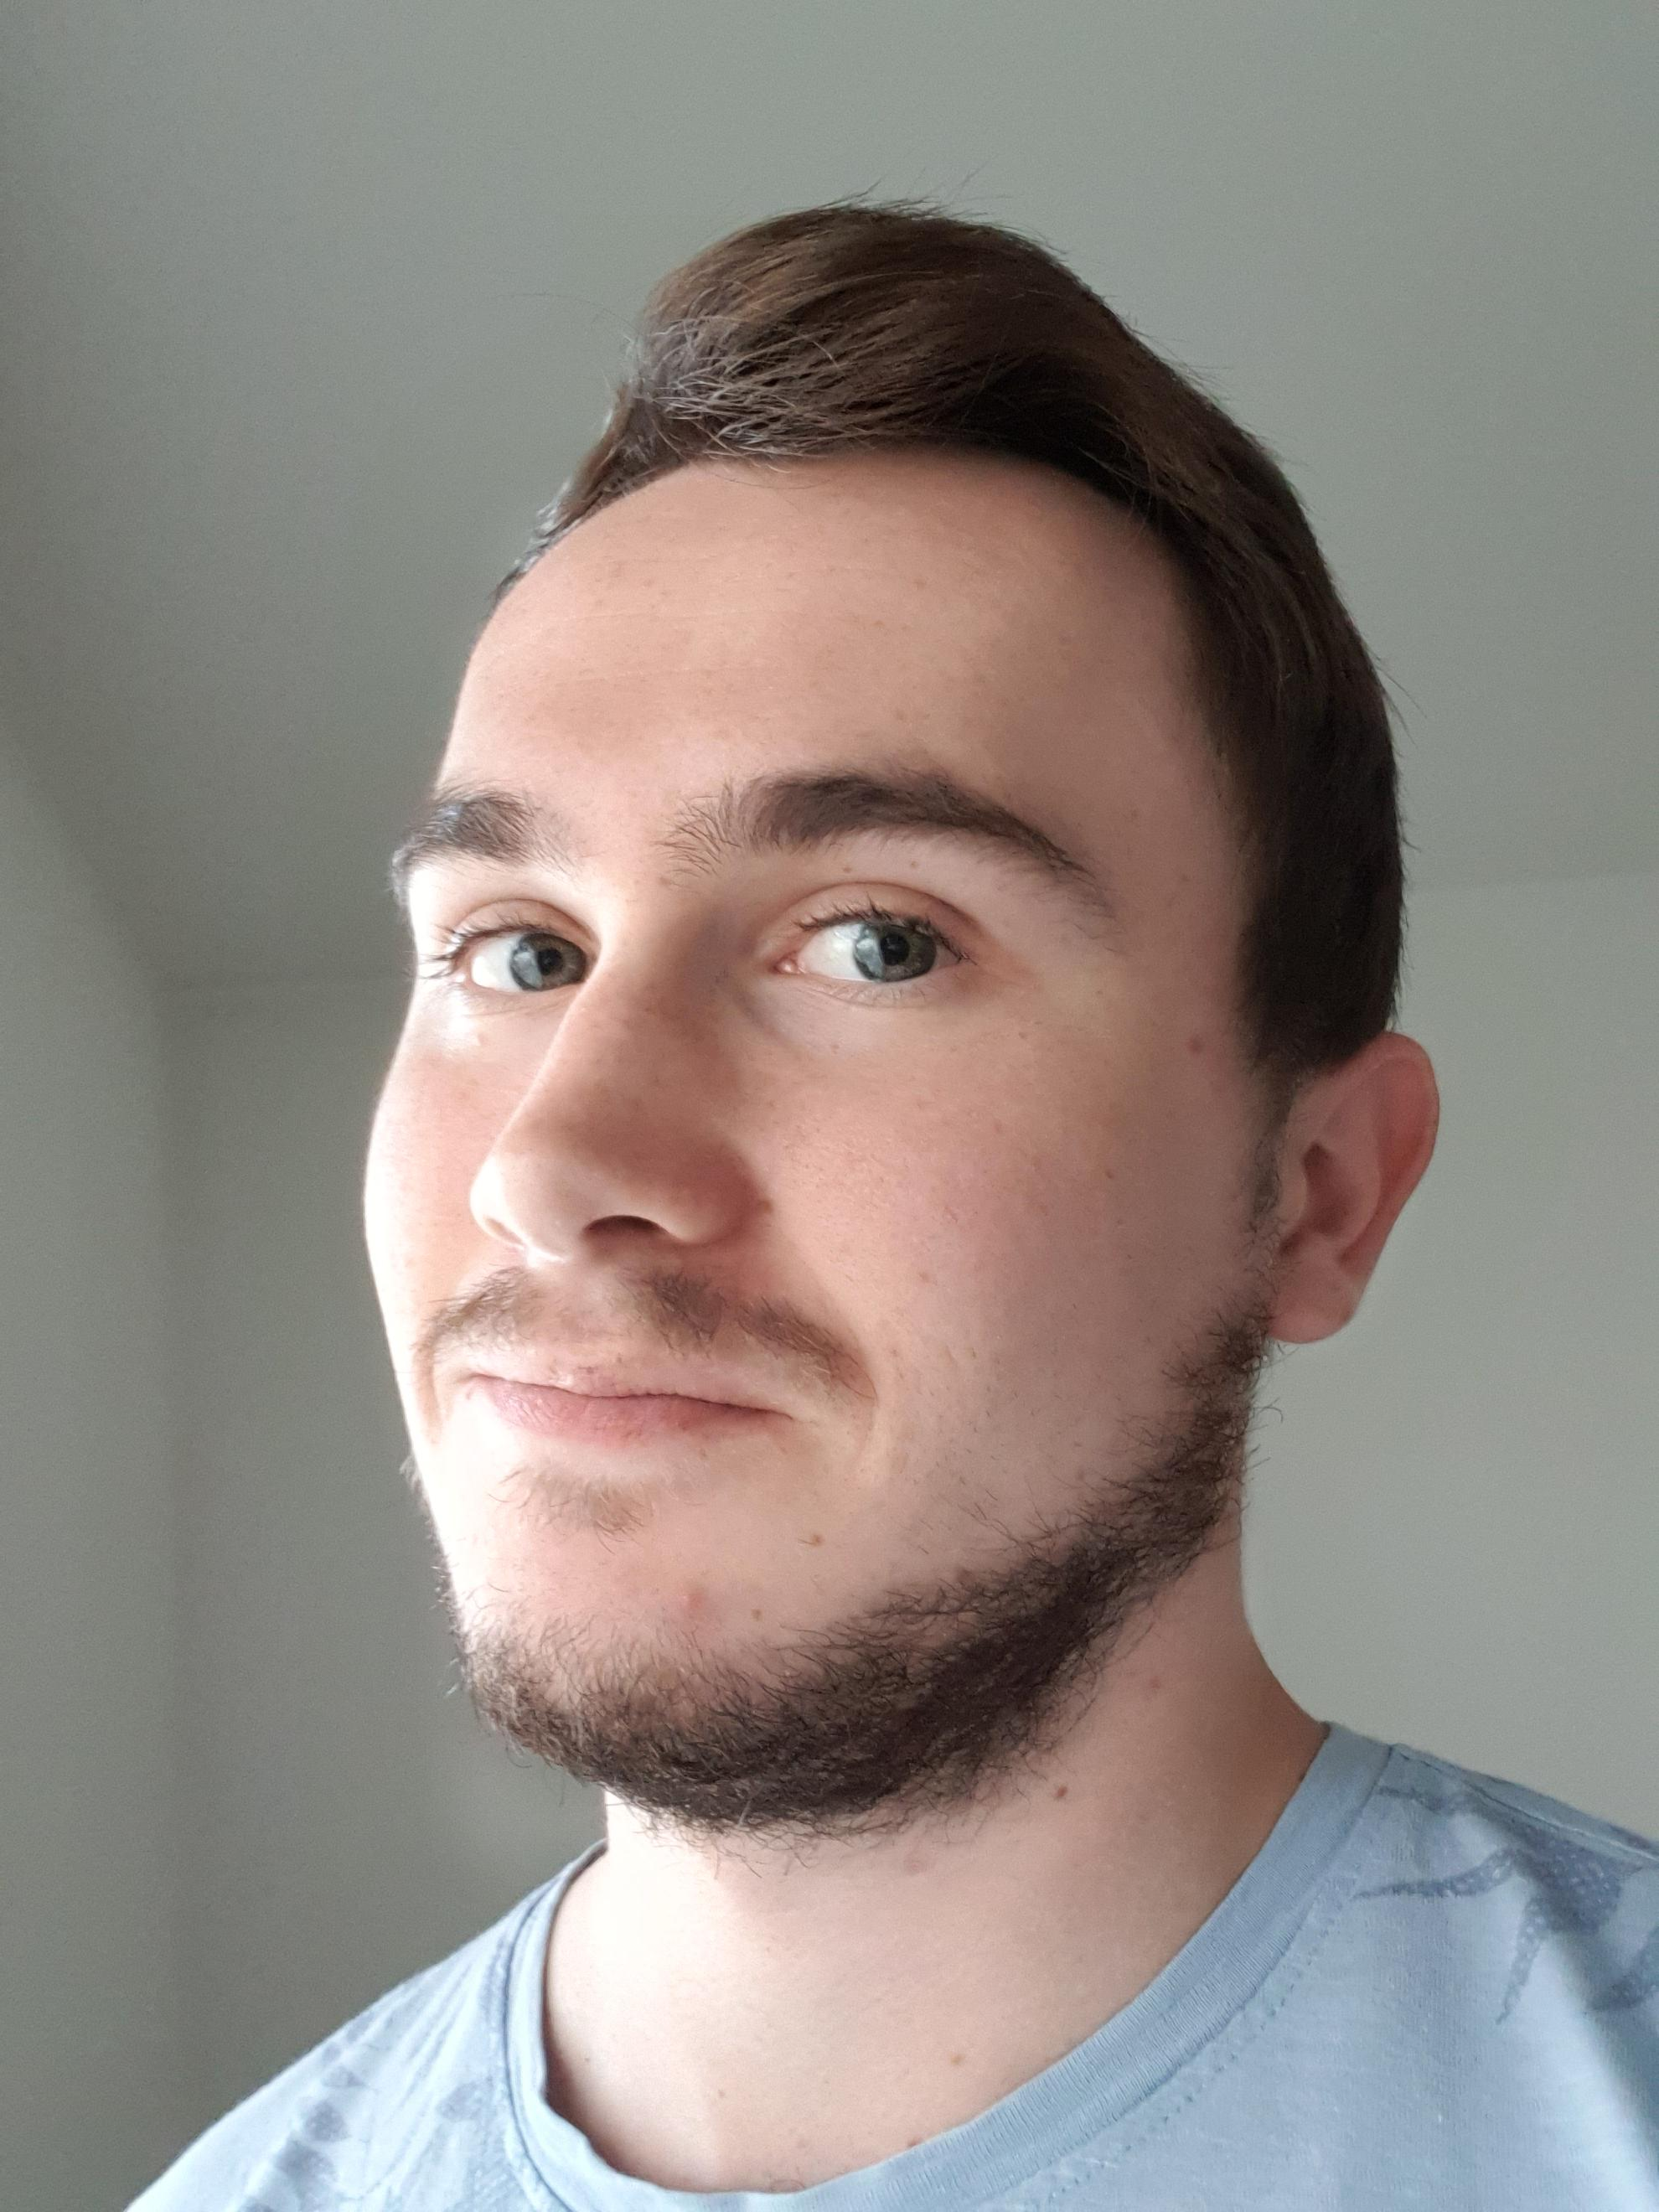without_mask: (325, 391, 1450, 1846)
